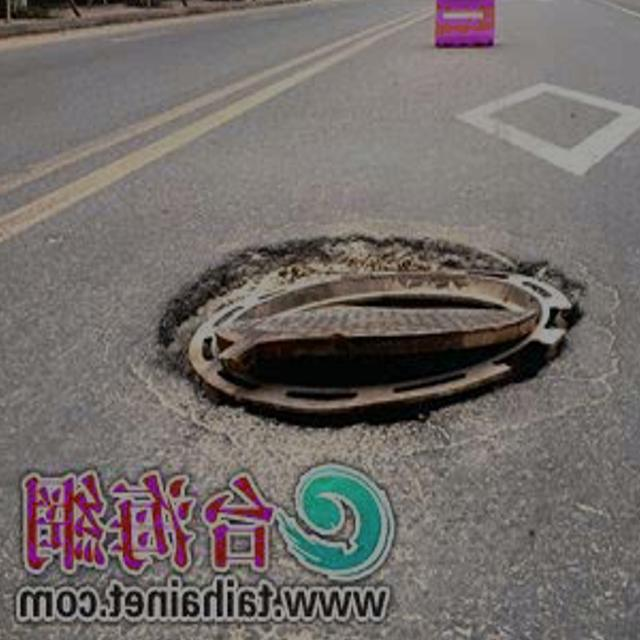circle: (94, 212, 640, 472)
